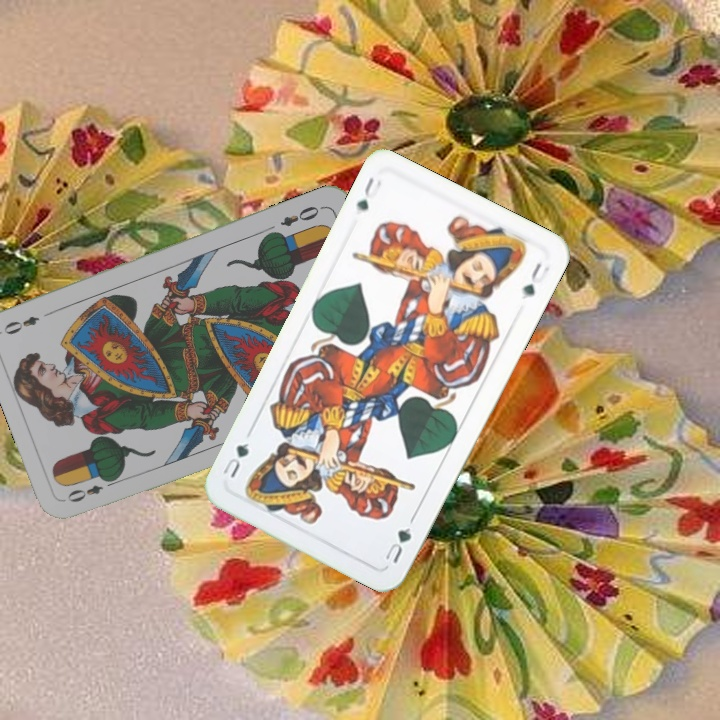EO: (63, 475, 119, 505), (276, 201, 326, 229)
GU: (381, 523, 414, 566), (352, 173, 385, 214)
